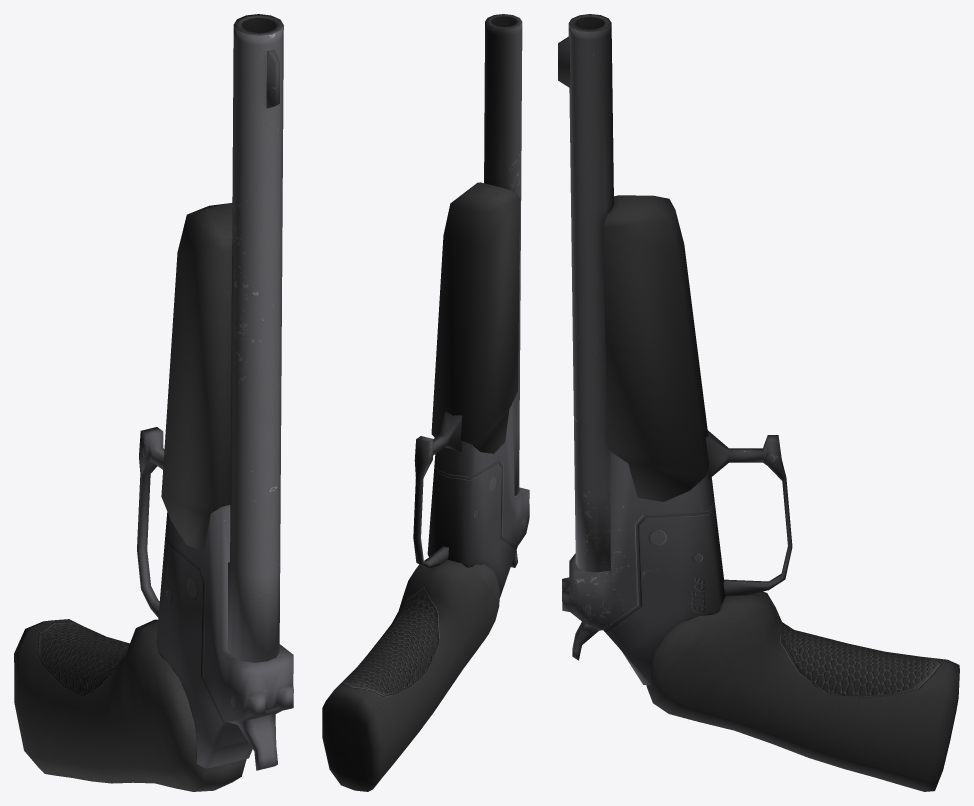
File: TLOG_HuntingPistol.fbx
The picture shows the model from 3 angles, left to right: view 1: azimuth 30°, elevation 25°; view 2: azimuth 150°, elevation 25°; view 3: azimuth 270°, elevation 25°; orthographic projection. The views are drawn at different scales.
Parts seen in each view (by area): view 1: handle.002; view 2: handle.002; view 3: handle.002.
Part boxes in pixels (x1,y1,x2,y2): handle.002: [14, 14, 293, 791]; handle.002: [322, 14, 529, 791]; handle.002: [558, 14, 959, 791].
Size of the model in its own units: 0.0238 by 0.2578 by 0.123.
